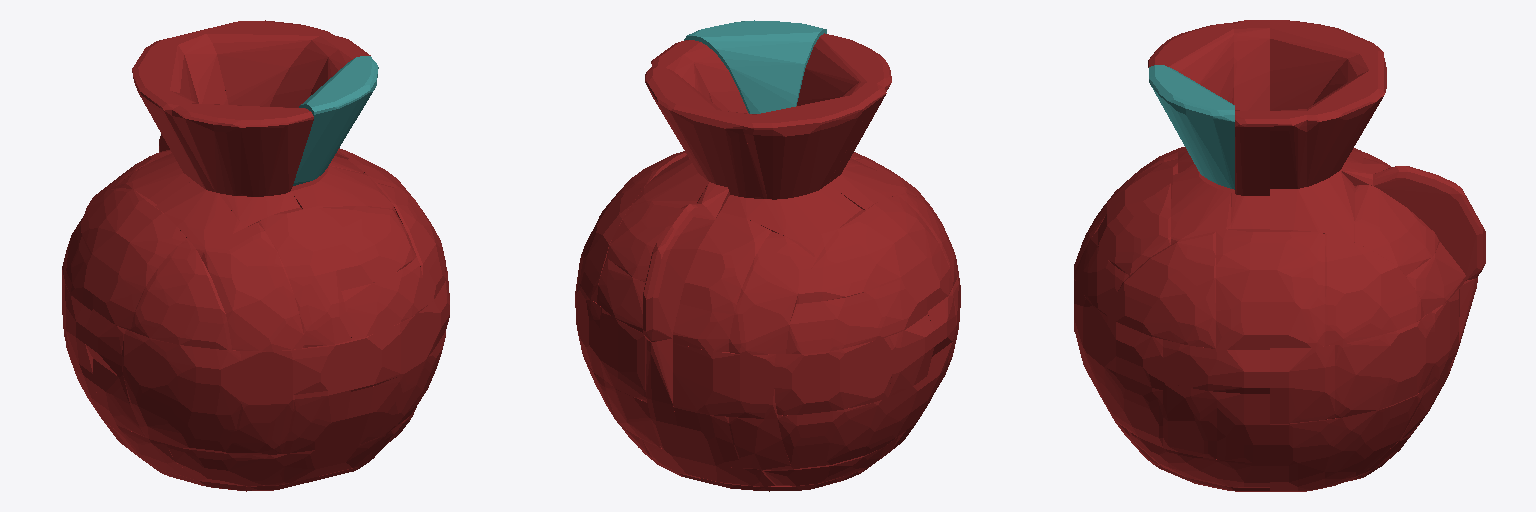
--- Render facts (derived) ---
The picture shows the robot from 3 angles, left to right: view 1: azimuth 30°, elevation 25°; view 2: azimuth 150°, elevation 25°; view 3: azimuth 270°, elevation 25°; orthographic projection.
Model root with 2 links and 1 joints (1 revolute), rooted at bottle_body, posed every joint at zero.
Links seen in each view (by area): view 1: bottle_body, bottle_cap; view 2: bottle_body, bottle_cap; view 3: bottle_body, bottle_cap.
Link boxes in pixels (x1,y1,x2,y2): bottle_body: (62,20,449,491); bottle_cap: (293,56,378,185); bottle_body: (575,33,960,491); bottle_cap: (684,20,826,113); bottle_body: (1074,20,1485,491); bottle_cap: (1149,65,1234,189).
Bounding box of the posed robot: 0.1578 × 0.1649 × 0.1669 m (x, y, z).
70 mesh visuals loaded from 70 distinct referenced files (70 OBJ).

robot.urdf — root:
<robot name="root">
  <link name="bottle_body">
    <inertial>
      <origin xyz="0 0 0" rpy="0 0 0"/>
    </inertial>
    <mass value="1.00E-02"/>
    <visual>
      <origin xyz="0 0 0" rpy="0 0 0"/>
      <geometry>
        <mesh filename="core-bottle-f1ae9b2eb551ba466dc523ea4bf73f1c-coacd_convex_piece_69.obj" scale="1.0000E-01 1.0000E-01 1.0000E-01"/>
      </geometry>
      <material name="">
        <color rgba="6.00E-01 2.00E-01 2.00E-01 1"/>
      </material>
    </visual>
    <collision>
      <origin xyz="0 0 0" rpy="0 0 0"/>
      <geometry>
        <mesh filename="core-bottle-f1ae9b2eb551ba466dc523ea4bf73f1c-coacd_convex_piece_69.obj" scale="1.0000E-01 1.0000E-01 1.0000E-01"/>
      </geometry>
    </collision>
    <visual>
      <origin xyz="0 0 0" rpy="0 0 0"/>
      <geometry>
        <mesh filename="core-bottle-f1ae9b2eb551ba466dc523ea4bf73f1c-coacd_convex_piece_27.obj" scale="1.0000E-01 1.0000E-01 1.0000E-01"/>
      </geometry>
      <material name="">
        <color rgba="6.00E-01 2.00E-01 2.00E-01 1"/>
      </material>
    </visual>
    <collision>
      <origin xyz="0 0 0" rpy="0 0 0"/>
      <geometry>
        <mesh filename="core-bottle-f1ae9b2eb551ba466dc523ea4bf73f1c-coacd_convex_piece_27.obj" scale="1.0000E-01 1.0000E-01 1.0000E-01"/>
      </geometry>
    </collision>
    <visual>
      <origin xyz="0 0 0" rpy="0 0 0"/>
      <geometry>
        <mesh filename="core-bottle-f1ae9b2eb551ba466dc523ea4bf73f1c-coacd_convex_piece_18.obj" scale="1.0000E-01 1.0000E-01 1.0000E-01"/>
      </geometry>
      <material name="">
        <color rgba="6.00E-01 2.00E-01 2.00E-01 1"/>
      </material>
    </visual>
    <collision>
      <origin xyz="0 0 0" rpy="0 0 0"/>
      <geometry>
        <mesh filename="core-bottle-f1ae9b2eb551ba466dc523ea4bf73f1c-coacd_convex_piece_18.obj" scale="1.0000E-01 1.0000E-01 1.0000E-01"/>
      </geometry>
    </collision>
    <visual>
      <origin xyz="0 0 0" rpy="0 0 0"/>
      <geometry>
        <mesh filename="core-bottle-f1ae9b2eb551ba466dc523ea4bf73f1c-coacd_convex_piece_6.obj" scale="1.0000E-01 1.0000E-01 1.0000E-01"/>
      </geometry>
      <material name="">
        <color rgba="6.00E-01 2.00E-01 2.00E-01 1"/>
      </material>
    </visual>
    <collision>
      <origin xyz="0 0 0" rpy="0 0 0"/>
      <geometry>
        <mesh filename="core-bottle-f1ae9b2eb551ba466dc523ea4bf73f1c-coacd_convex_piece_6.obj" scale="1.0000E-01 1.0000E-01 1.0000E-01"/>
      </geometry>
    </collision>
    <visual>
      <origin xyz="0 0 0" rpy="0 0 0"/>
      <geometry>
        <mesh filename="core-bottle-f1ae9b2eb551ba466dc523ea4bf73f1c-coacd_convex_piece_51.obj" scale="1.0000E-01 1.0000E-01 1.0000E-01"/>
      </geometry>
      <material name="">
        <color rgba="6.00E-01 2.00E-01 2.00E-01 1"/>
      </material>
    </visual>
    <collision>
      <origin xyz="0 0 0" rpy="0 0 0"/>
      <geometry>
        <mesh filename="core-bottle-f1ae9b2eb551ba466dc523ea4bf73f1c-coacd_convex_piece_51.obj" scale="1.0000E-01 1.0000E-01 1.0000E-01"/>
      </geometry>
    </collision>
    <visual>
      <origin xyz="0 0 0" rpy="0 0 0"/>
      <geometry>
        <mesh filename="core-bottle-f1ae9b2eb551ba466dc523ea4bf73f1c-coacd_convex_piece_54.obj" scale="1.0000E-01 1.0000E-01 1.0000E-01"/>
      </geometry>
      <material name="">
        <color rgba="6.00E-01 2.00E-01 2.00E-01 1"/>
      </material>
    </visual>
    <collision>
      <origin xyz="0 0 0" rpy="0 0 0"/>
      <geometry>
        <mesh filename="core-bottle-f1ae9b2eb551ba466dc523ea4bf73f1c-coacd_convex_piece_54.obj" scale="1.0000E-01 1.0000E-01 1.0000E-01"/>
      </geometry>
    </collision>
    <visual>
      <origin xyz="0 0 0" rpy="0 0 0"/>
      <geometry>
        <mesh filename="core-bottle-f1ae9b2eb551ba466dc523ea4bf73f1c-coacd_convex_piece_3.obj" scale="1.0000E-01 1.0000E-01 1.0000E-01"/>
      </geometry>
      <material name="">
        <color rgba="6.00E-01 2.00E-01 2.00E-01 1"/>
      </material>
    </visual>
    <collision>
      <origin xyz="0 0 0" rpy="0 0 0"/>
      <geometry>
        <mesh filename="core-bottle-f1ae9b2eb551ba466dc523ea4bf73f1c-coacd_convex_piece_3.obj" scale="1.0000E-01 1.0000E-01 1.0000E-01"/>
      </geometry>
    </collision>
    <visual>
      <origin xyz="0 0 0" rpy="0 0 0"/>
      <geometry>
        <mesh filename="core-bottle-f1ae9b2eb551ba466dc523ea4bf73f1c-coacd_convex_piece_9.obj" scale="1.0000E-01 1.0000E-01 1.0000E-01"/>
      </geometry>
      <material name="">
        <color rgba="6.00E-01 2.00E-01 2.00E-01 1"/>
      </material>
    </visual>
    <collision>
      <origin xyz="0 0 0" rpy="0 0 0"/>
      <geometry>
        <mesh filename="core-bottle-f1ae9b2eb551ba466dc523ea4bf73f1c-coacd_convex_piece_9.obj" scale="1.0000E-01 1.0000E-01 1.0000E-01"/>
      </geometry>
    </collision>
    <visual>
      <origin xyz="0 0 0" rpy="0 0 0"/>
      <geometry>
        <mesh filename="core-bottle-f1ae9b2eb551ba466dc523ea4bf73f1c-coacd_convex_piece_36.obj" scale="1.0000E-01 1.0000E-01 1.0000E-01"/>
      </geometry>
      <material name="">
        <color rgba="6.00E-01 2.00E-01 2.00E-01 1"/>
      </material>
    </visual>
    <collision>
      <origin xyz="0 0 0" rpy="0 0 0"/>
      <geometry>
        <mesh filename="core-bottle-f1ae9b2eb551ba466dc523ea4bf73f1c-coacd_convex_piece_36.obj" scale="1.0000E-01 1.0000E-01 1.0000E-01"/>
      </geometry>
    </collision>
    <visual>
      <origin xyz="0 0 0" rpy="0 0 0"/>
      <geometry>
        <mesh filename="core-bottle-f1ae9b2eb551ba466dc523ea4bf73f1c-coacd_convex_piece_31.obj" scale="1.0000E-01 1.0000E-01 1.0000E-01"/>
      </geometry>
      <material name="">
        <color rgba="6.00E-01 2.00E-01 2.00E-01 1"/>
      </material>
    </visual>
    <collision>
      <origin xyz="0 0 0" rpy="0 0 0"/>
      <geometry>
        <mesh filename="core-bottle-f1ae9b2eb551ba466dc523ea4bf73f1c-coacd_convex_piece_31.obj" scale="1.0000E-01 1.0000E-01 1.0000E-01"/>
      </geometry>
    </collision>
    <visual>
      <origin xyz="0 0 0" rpy="0 0 0"/>
      <geometry>
        <mesh filename="core-bottle-f1ae9b2eb551ba466dc523ea4bf73f1c-coacd_convex_piece_68.obj" scale="1.0000E-01 1.0000E-01 1.0000E-01"/>
      </geometry>
      <material name="">
        <color rgba="6.00E-01 2.00E-01 2.00E-01 1"/>
      </material>
    </visual>
    <collision>
      <origin xyz="0 0 0" rpy="0 0 0"/>
      <geometry>
        <mesh filename="core-bottle-f1ae9b2eb551ba466dc523ea4bf73f1c-coacd_convex_piece_68.obj" scale="1.0000E-01 1.0000E-01 1.0000E-01"/>
      </geometry>
    </collision>
    <visual>
      <origin xyz="0 0 0" rpy="0 0 0"/>
      <geometry>
        <mesh filename="core-bottle-f1ae9b2eb551ba466dc523ea4bf73f1c-coacd_convex_piece_48.obj" scale="1.0000E-01 1.0000E-01 1.0000E-01"/>
      </geometry>
      <material name="">
        <color rgba="6.00E-01 2.00E-01 2.00E-01 1"/>
      </material>
    </visual>
    <collision>
      <origin xyz="0 0 0" rpy="0 0 0"/>
      <geometry>
        <mesh filename="core-bottle-f1ae9b2eb551ba466dc523ea4bf73f1c-coacd_convex_piece_48.obj" scale="1.0000E-01 1.0000E-01 1.0000E-01"/>
      </geometry>
    </collision>
    <visual>
      <origin xyz="0 0 0" rpy="0 0 0"/>
      <geometry>
        <mesh filename="core-bottle-f1ae9b2eb551ba466dc523ea4bf73f1c-coacd_convex_piece_50.obj" scale="1.0000E-01 1.0000E-01 1.0000E-01"/>
      </geometry>
      <material name="">
        <color rgba="6.00E-01 2.00E-01 2.00E-01 1"/>
      </material>
    </visual>
    <collision>
      <origin xyz="0 0 0" rpy="0 0 0"/>
      <geometry>
        <mesh filename="core-bottle-f1ae9b2eb551ba466dc523ea4bf73f1c-coacd_convex_piece_50.obj" scale="1.0000E-01 1.0000E-01 1.0000E-01"/>
      </geometry>
    </collision>
    <visual>
      <origin xyz="0 0 0" rpy="0 0 0"/>
      <geometry>
        <mesh filename="core-bottle-f1ae9b2eb551ba466dc523ea4bf73f1c-coacd_convex_piece_23.obj" scale="1.0000E-01 1.0000E-01 1.0000E-01"/>
      </geometry>
      <material name="">
        <color rgba="6.00E-01 2.00E-01 2.00E-01 1"/>
      </material>
    </visual>
    <collision>
      <origin xyz="0 0 0" rpy="0 0 0"/>
      <geometry>
        <mesh filename="core-bottle-f1ae9b2eb551ba466dc523ea4bf73f1c-coacd_convex_piece_23.obj" scale="1.0000E-01 1.0000E-01 1.0000E-01"/>
      </geometry>
    </collision>
    <visual>
      <origin xyz="0 0 0" rpy="0 0 0"/>
      <geometry>
        <mesh filename="core-bottle-f1ae9b2eb551ba466dc523ea4bf73f1c-coacd_convex_piece_58.obj" scale="1.0000E-01 1.0000E-01 1.0000E-01"/>
      </geometry>
      <material name="">
        <color rgba="6.00E-01 2.00E-01 2.00E-01 1"/>
      </material>
    </visual>
    <collision>
      <origin xyz="0 0 0" rpy="0 0 0"/>
      <geometry>
        <mesh filename="core-bottle-f1ae9b2eb551ba466dc523ea4bf73f1c-coacd_convex_piece_58.obj" scale="1.0000E-01 1.0000E-01 1.0000E-01"/>
      </geometry>
    </collision>
    <visual>
      <origin xyz="0 0 0" rpy="0 0 0"/>
      <geometry>
        <mesh filename="core-bottle-f1ae9b2eb551ba466dc523ea4bf73f1c-coacd_convex_piece_10.obj" scale="1.0000E-01 1.0000E-01 1.0000E-01"/>
      </geometry>
      <material name="">
        <color rgba="6.00E-01 2.00E-01 2.00E-01 1"/>
      </material>
    </visual>
    <collision>
      <origin xyz="0 0 0" rpy="0 0 0"/>
      <geometry>
        <mesh filename="core-bottle-f1ae9b2eb551ba466dc523ea4bf73f1c-coacd_convex_piece_10.obj" scale="1.0000E-01 1.0000E-01 1.0000E-01"/>
      </geometry>
    </collision>
    <visual>
      <origin xyz="0 0 0" rpy="0 0 0"/>
      <geometry>
        <mesh filename="core-bottle-f1ae9b2eb551ba466dc523ea4bf73f1c-coacd_convex_piece_16.obj" scale="1.0000E-01 1.0000E-01 1.0000E-01"/>
      </geometry>
      <material name="">
        <color rgba="6.00E-01 2.00E-01 2.00E-01 1"/>
      </material>
    </visual>
    <collision>
      <origin xyz="0 0 0" rpy="0 0 0"/>
      <geometry>
        <mesh filename="core-bottle-f1ae9b2eb551ba466dc523ea4bf73f1c-coacd_convex_piece_16.obj" scale="1.0000E-01 1.0000E-01 1.0000E-01"/>
      </geometry>
    </collision>
    <visual>
      <origin xyz="0 0 0" rpy="0 0 0"/>
      <geometry>
        <mesh filename="core-bottle-f1ae9b2eb551ba466dc523ea4bf73f1c-coacd_convex_piece_17.obj" scale="1.0000E-01 1.0000E-01 1.0000E-01"/>
      </geometry>
      <material name="">
        <color rgba="6.00E-01 2.00E-01 2.00E-01 1"/>
      </material>
    </visual>
    <collision>
      <origin xyz="0 0 0" rpy="0 0 0"/>
      <geometry>
        <mesh filename="core-bottle-f1ae9b2eb551ba466dc523ea4bf73f1c-coacd_convex_piece_17.obj" scale="1.0000E-01 1.0000E-01 1.0000E-01"/>
      </geometry>
    </collision>
    <visual>
      <origin xyz="0 0 0" rpy="0 0 0"/>
      <geometry>
        <mesh filename="core-bottle-f1ae9b2eb551ba466dc523ea4bf73f1c-coacd_convex_piece_12.obj" scale="1.0000E-01 1.0000E-01 1.0000E-01"/>
      </geometry>
      <material name="">
        <color rgba="6.00E-01 2.00E-01 2.00E-01 1"/>
      </material>
    </visual>
    <collision>
      <origin xyz="0 0 0" rpy="0 0 0"/>
      <geometry>
        <mesh filename="core-bottle-f1ae9b2eb551ba466dc523ea4bf73f1c-coacd_convex_piece_12.obj" scale="1.0000E-01 1.0000E-01 1.0000E-01"/>
      </geometry>
    </collision>
    <visual>
      <origin xyz="0 0 0" rpy="0 0 0"/>
      <geometry>
        <mesh filename="core-bottle-f1ae9b2eb551ba466dc523ea4bf73f1c-coacd_convex_piece_24.obj" scale="1.0000E-01 1.0000E-01 1.0000E-01"/>
      </geometry>
      <material name="">
        <color rgba="6.00E-01 2.00E-01 2.00E-01 1"/>
      </material>
    </visual>
    <collision>
      <origin xyz="0 0 0" rpy="0 0 0"/>
      <geometry>
        <mesh filename="core-bottle-f1ae9b2eb551ba466dc523ea4bf73f1c-coacd_convex_piece_24.obj" scale="1.0000E-01 1.0000E-01 1.0000E-01"/>
      </geometry>
    </collision>
    <visual>
      <origin xyz="0 0 0" rpy="0 0 0"/>
      <geometry>
        <mesh filename="core-bottle-f1ae9b2eb551ba466dc523ea4bf73f1c-coacd_convex_piece_59.obj" scale="1.0000E-01 1.0000E-01 1.0000E-01"/>
      </geometry>
      <material name="">
        <color rgba="6.00E-01 2.00E-01 2.00E-01 1"/>
      </material>
    </visual>
    <collision>
      <origin xyz="0 0 0" rpy="0 0 0"/>
      <geometry>
        <mesh filename="core-bottle-f1ae9b2eb551ba466dc523ea4bf73f1c-coacd_convex_piece_59.obj" scale="1.0000E-01 1.0000E-01 1.0000E-01"/>
      </geometry>
    </collision>
    <visual>
      <origin xyz="0 0 0" rpy="0 0 0"/>
      <geometry>
        <mesh filename="core-bottle-f1ae9b2eb551ba466dc523ea4bf73f1c-coacd_convex_piece_64.obj" scale="1.0000E-01 1.0000E-01 1.0000E-01"/>
      </geometry>
      <material name="">
        <color rgba="6.00E-01 2.00E-01 2.00E-01 1"/>
      </material>
    </visual>
    <collision>
      <origin xyz="0 0 0" rpy="0 0 0"/>
      <geometry>
        <mesh filename="core-bottle-f1ae9b2eb551ba466dc523ea4bf73f1c-coacd_convex_piece_64.obj" scale="1.0000E-01 1.0000E-01 1.0000E-01"/>
      </geometry>
    </collision>
    <visual>
      <origin xyz="0 0 0" rpy="0 0 0"/>
      <geometry>
        <mesh filename="core-bottle-f1ae9b2eb551ba466dc523ea4bf73f1c-coacd_convex_piece_14.obj" scale="1.0000E-01 1.0000E-01 1.0000E-01"/>
      </geometry>
      <material name="">
        <color rgba="6.00E-01 2.00E-01 2.00E-01 1"/>
      </material>
    </visual>
    <collision>
      <origin xyz="0 0 0" rpy="0 0 0"/>
      <geometry>
        <mesh filename="core-bottle-f1ae9b2eb551ba466dc523ea4bf73f1c-coacd_convex_piece_14.obj" scale="1.0000E-01 1.0000E-01 1.0000E-01"/>
      </geometry>
    </collision>
    <visual>
      <origin xyz="0 0 0" rpy="0 0 0"/>
      <geometry>
        <mesh filename="core-bottle-f1ae9b2eb551ba466dc523ea4bf73f1c-coacd_convex_piece_34.obj" scale="1.0000E-01 1.0000E-01 1.0000E-01"/>
      </geometry>
      <material name="">
        <color rgba="6.00E-01 2.00E-01 2.00E-01 1"/>
      </material>
    </visual>
    <collision>
      <origin xyz="0 0 0" rpy="0 0 0"/>
      <geometry>
        <mesh filename="core-bottle-f1ae9b2eb551ba466dc523ea4bf73f1c-coacd_convex_piece_34.obj" scale="1.0000E-01 1.0000E-01 1.0000E-01"/>
      </geometry>
    </collision>
    <visual>
      <origin xyz="0 0 0" rpy="0 0 0"/>
      <geometry>
        <mesh filename="core-bottle-f1ae9b2eb551ba466dc523ea4bf73f1c-coacd_convex_piece_49.obj" scale="1.0000E-01 1.0000E-01 1.0000E-01"/>
      </geometry>
      <material name="">
        <color rgba="6.00E-01 2.00E-01 2.00E-01 1"/>
      </material>
    </visual>
    <collision>
      <origin xyz="0 0 0" rpy="0 0 0"/>
      <geometry>
        <mesh filename="core-bottle-f1ae9b2eb551ba466dc523ea4bf73f1c-coacd_convex_piece_49.obj" scale="1.0000E-01 1.0000E-01 1.0000E-01"/>
      </geometry>
    </collision>
    <visual>
      <origin xyz="0 0 0" rpy="0 0 0"/>
      <geometry>
        <mesh filename="core-bottle-f1ae9b2eb551ba466dc523ea4bf73f1c-coacd_convex_piece_32.obj" scale="1.0000E-01 1.0000E-01 1.0000E-01"/>
      </geometry>
      <material name="">
        <color rgba="6.00E-01 2.00E-01 2.00E-01 1"/>
      </material>
    </visual>
    <collision>
      <origin xyz="0 0 0" rpy="0 0 0"/>
      <geometry>
        <mesh filename="core-bottle-f1ae9b2eb551ba466dc523ea4bf73f1c-coacd_convex_piece_32.obj" scale="1.0000E-01 1.0000E-01 1.0000E-01"/>
      </geometry>
    </collision>
    <visual>
      <origin xyz="0 0 0" rpy="0 0 0"/>
      <geometry>
        <mesh filename="core-bottle-f1ae9b2eb551ba466dc523ea4bf73f1c-coacd_convex_piece_41.obj" scale="1.0000E-01 1.0000E-01 1.0000E-01"/>
      </geometry>
      <material name="">
        <color rgba="6.00E-01 2.00E-01 2.00E-01 1"/>
      </material>
    </visual>
    <collision>
      <origin xyz="0 0 0" rpy="0 0 0"/>
      <geometry>
        <mesh filename="core-bottle-f1ae9b2eb551ba466dc523ea4bf73f1c-coacd_convex_piece_41.obj" scale="1.0000E-01 1.0000E-01 1.0000E-01"/>
      </geometry>
    </collision>
    <visual>
      <origin xyz="0 0 0" rpy="0 0 0"/>
      <geometry>
        <mesh filename="core-bottle-f1ae9b2eb551ba466dc523ea4bf73f1c-coacd_convex_piece_55.obj" scale="1.0000E-01 1.0000E-01 1.0000E-01"/>
      </geometry>
      <material name="">
        <color rgba="6.00E-01 2.00E-01 2.00E-01 1"/>
      </material>
    </visual>
    <collision>
      <origin xyz="0 0 0" rpy="0 0 0"/>
      <geometry>
        <mesh filename="core-bottle-f1ae9b2eb551ba466dc523ea4bf73f1c-coacd_convex_piece_55.obj" scale="1.0000E-01 1.0000E-01 1.0000E-01"/>
      </geometry>
    </collision>
    <visual>
      <origin xyz="0 0 0" rpy="0 0 0"/>
      <geometry>
        <mesh filename="core-bottle-f1ae9b2eb551ba466dc523ea4bf73f1c-coacd_convex_piece_63.obj" scale="1.0000E-01 1.0000E-01 1.0000E-01"/>
      </geometry>
      <material name="">
        <color rgba="6.00E-01 2.00E-01 2.00E-01 1"/>
      </material>
    </visual>
    <collision>
      <origin xyz="0 0 0" rpy="0 0 0"/>
      <geometry>
        <mesh filename="core-bottle-f1ae9b2eb551ba466dc523ea4bf73f1c-coacd_convex_piece_63.obj" scale="1.0000E-01 1.0000E-01 1.0000E-01"/>
      </geometry>
    </collision>
    <visual>
      <origin xyz="0 0 0" rpy="0 0 0"/>
      <geometry>
        <mesh filename="core-bottle-f1ae9b2eb551ba466dc523ea4bf73f1c-coacd_convex_piece_15.obj" scale="1.0000E-01 1.0000E-01 1.0000E-01"/>
      </geometry>
      <material name="">
        <color rgba="6.00E-01 2.00E-01 2.00E-01 1"/>
      </material>
    </visual>
    <collision>
      <origin xyz="0 0 0" rpy="0 0 0"/>
      <geometry>
        <mesh filename="core-bottle-f1ae9b2eb551ba466dc523ea4bf73f1c-coacd_convex_piece_15.obj" scale="1.0000E-01 1.0000E-01 1.0000E-01"/>
      </geometry>
    </collision>
    <visual>
      <origin xyz="0 0 0" rpy="0 0 0"/>
      <geometry>
        <mesh filename="core-bottle-f1ae9b2eb551ba466dc523ea4bf73f1c-coacd_convex_piece_28.obj" scale="1.0000E-01 1.0000E-01 1.0000E-01"/>
      </geometry>
      <material name="">
        <color rgba="6.00E-01 2.00E-01 2.00E-01 1"/>
      </material>
    </visual>
    <collision>
      <origin xyz="0 0 0" rpy="0 0 0"/>
      <geometry>
        <mesh filename="core-bottle-f1ae9b2eb551ba466dc523ea4bf73f1c-coacd_convex_piece_28.obj" scale="1.0000E-01 1.0000E-01 1.0000E-01"/>
      </geometry>
    </collision>
    <visual>
      <origin xyz="0 0 0" rpy="0 0 0"/>
      <geometry>
        <mesh filename="core-bottle-f1ae9b2eb551ba466dc523ea4bf73f1c-coacd_convex_piece_56.obj" scale="1.0000E-01 1.0000E-01 1.0000E-01"/>
      </geometry>
      <material name="">
        <color rgba="6.00E-01 2.00E-01 2.00E-01 1"/>
      </material>
    </visual>
    <collision>
      <origin xyz="0 0 0" rpy="0 0 0"/>
      <geometry>
        <mesh filename="core-bottle-f1ae9b2eb551ba466dc523ea4bf73f1c-coacd_convex_piece_56.obj" scale="1.0000E-01 1.0000E-01 1.0000E-01"/>
      </geometry>
    </collision>
    <visual>
      <origin xyz="0 0 0" rpy="0 0 0"/>
      <geometry>
        <mesh filename="core-bottle-f1ae9b2eb551ba466dc523ea4bf73f1c-coacd_convex_piece_7.obj" scale="1.0000E-01 1.0000E-01 1.0000E-01"/>
      </geometry>
      <material name="">
        <color rgba="6.00E-01 2.00E-01 2.00E-01 1"/>
      </material>
    </visual>
    <collision>
      <origin xyz="0 0 0" rpy="0 0 0"/>
      <geometry>
        <mesh filename="core-bottle-f1ae9b2eb551ba466dc523ea4bf73f1c-coacd_convex_piece_7.obj" scale="1.0000E-01 1.0000E-01 1.0000E-01"/>
      </geometry>
    </collision>
    <visual>
      <origin xyz="0 0 0" rpy="0 0 0"/>
      <geometry>
        <mesh filename="core-bottle-f1ae9b2eb551ba466dc523ea4bf73f1c-coacd_convex_piece_61.obj" scale="1.0000E-01 1.0000E-01 1.0000E-01"/>
      </geometry>
      <material name="">
        <color rgba="6.00E-01 2.00E-01 2.00E-01 1"/>
      </material>
    </visual>
    <collision>
      <origin xyz="0 0 0" rpy="0 0 0"/>
      <geometry>
        <mesh filename="core-bottle-f1ae9b2eb551ba466dc523ea4bf73f1c-coacd_convex_piece_61.obj" scale="1.0000E-01 1.0000E-01 1.0000E-01"/>
      </geometry>
    </collision>
    <visual>
      <origin xyz="0 0 0" rpy="0 0 0"/>
      <geometry>
        <mesh filename="core-bottle-f1ae9b2eb551ba466dc523ea4bf73f1c-coacd_convex_piece_67.obj" scale="1.0000E-01 1.0000E-01 1.0000E-01"/>
      </geometry>
      <material name="">
        <color rgba="6.00E-01 2.00E-01 2.00E-01 1"/>
      </material>
    </visual>
    <collision>
      <origin xyz="0 0 0" rpy="0 0 0"/>
      <geometry>
        <mesh filename="core-bottle-f1ae9b2eb551ba466dc523ea4bf73f1c-coacd_convex_piece_67.obj" scale="1.0000E-01 1.0000E-01 1.0000E-01"/>
      </geometry>
    </collision>
    <visual>
      <origin xyz="0 0 0" rpy="0 0 0"/>
      <geometry>
        <mesh filename="core-bottle-f1ae9b2eb551ba466dc523ea4bf73f1c-coacd_convex_piece_37.obj" scale="1.0000E-01 1.0000E-01 1.0000E-01"/>
      </geometry>
      <material name="">
        <color rgba="6.00E-01 2.00E-01 2.00E-01 1"/>
      </material>
    </visual>
    <collision>
      <origin xyz="0 0 0" rpy="0 0 0"/>
      <geometry>
        <mesh filename="core-bottle-f1ae9b2eb551ba466dc523ea4bf73f1c-coacd_convex_piece_37.obj" scale="1.0000E-01 1.0000E-01 1.0000E-01"/>
      </geometry>
    </collision>
    <visual>
      <origin xyz="0 0 0" rpy="0 0 0"/>
      <geometry>
        <mesh filename="core-bottle-f1ae9b2eb551ba466dc523ea4bf73f1c-coacd_convex_piece_52.obj" scale="1.0000E-01 1.0000E-01 1.0000E-01"/>
      </geometry>
      <material name="">
        <color rgba="6.00E-01 2.00E-01 2.00E-01 1"/>
      </material>
    </visual>
    <collision>
      <origin xyz="0 0 0" rpy="0 0 0"/>
      <geometry>
        <mesh filename="core-bottle-f1ae9b2eb551ba466dc523ea4bf73f1c-coacd_convex_piece_52.obj" scale="1.0000E-01 1.0000E-01 1.0000E-01"/>
      </geometry>
    </collision>
    <visual>
      <origin xyz="0 0 0" rpy="0 0 0"/>
      <geometry>
        <mesh filename="core-bottle-f1ae9b2eb551ba466dc523ea4bf73f1c-coacd_convex_piece_26.obj" scale="1.0000E-01 1.0000E-01 1.0000E-01"/>
      </geometry>
      <material name="">
        <color rgba="6.00E-01 2.00E-01 2.00E-01 1"/>
      </material>
    </visual>
    <collision>
      <origin xyz="0 0 0" rpy="0 0 0"/>
      <geometry>
        <mesh filename="core-bottle-f1ae9b2eb551ba466dc523ea4bf73f1c-coacd_convex_piece_26.obj" scale="1.0000E-01 1.0000E-01 1.0000E-01"/>
      </geometry>
    </collision>
    <visual>
      <origin xyz="0 0 0" rpy="0 0 0"/>
      <geometry>
        <mesh filename="core-bottle-f1ae9b2eb551ba466dc523ea4bf73f1c-coacd_convex_piece_42.obj" scale="1.0000E-01 1.0000E-01 1.0000E-01"/>
      </geometry>
      <material name="">
        <color rgba="6.00E-01 2.00E-01 2.00E-01 1"/>
      </material>
    </visual>
    <collision>
      <origin xyz="0 0 0" rpy="0 0 0"/>
      <geometry>
        <mesh filename="core-bottle-f1ae9b2eb551ba466dc523ea4bf73f1c-coacd_convex_piece_42.obj" scale="1.0000E-01 1.0000E-01 1.0000E-01"/>
      </geometry>
    </collision>
    <visual>
      <origin xyz="0 0 0" rpy="0 0 0"/>
      <geometry>
        <mesh filename="core-bottle-f1ae9b2eb551ba466dc523ea4bf73f1c-coacd_convex_piece_2.obj" scale="1.0000E-01 1.0000E-01 1.0000E-01"/>
      </geometry>
      <material name="">
        <color rgba="6.00E-01 2.00E-01 2.00E-01 1"/>
      </material>
    </visual>
    <collision>
      <origin xyz="0 0 0" rpy="0 0 0"/>
      <geometry>
        <mesh filename="core-bottle-f1ae9b2eb551ba466dc523ea4bf73f1c-coacd_convex_piece_2.obj" scale="1.0000E-01 1.0000E-01 1.0000E-01"/>
      </geometry>
    </collision>
    <visual>
      <origin xyz="0 0 0" rpy="0 0 0"/>
      <geometry>
        <mesh filename="core-bottle-f1ae9b2eb551ba466dc523ea4bf73f1c-coacd_convex_piece_35.obj" scale="1.0000E-01 1.0000E-01 1.0000E-01"/>
      </geometry>
      <material name="">
        <color rgba="6.00E-01 2.00E-01 2.00E-01 1"/>
      </material>
    </visual>
    <collision>
      <origin xyz="0 0 0" rpy="0 0 0"/>
      <geometry>
        <mesh filename="core-bottle-f1ae9b2eb551ba466dc523ea4bf73f1c-coacd_convex_piece_35.obj" scale="1.0000E-01 1.0000E-01 1.0000E-01"/>
      </geometry>
    </collision>
    <visual>
      <origin xyz="0 0 0" rpy="0 0 0"/>
      <geometry>
        <mesh filename="core-bottle-f1ae9b2eb551ba466dc523ea4bf73f1c-coacd_convex_piece_4.obj" scale="1.0000E-01 1.0000E-01 1.0000E-01"/>
      </geometry>
      <material name="">
        <color rgba="6.00E-01 2.00E-01 2.00E-01 1"/>
      </material>
    </visual>
    <collision>
      <origin xyz="0 0 0" rpy="0 0 0"/>
      <geometry>
        <mesh filename="core-bottle-f1ae9b2eb551ba466dc523ea4bf73f1c-coacd_convex_piece_4.obj" scale="1.0000E-01 1.0000E-01 1.0000E-01"/>
      </geometry>
    </collision>
    <visual>
      <origin xyz="0 0 0" rpy="0 0 0"/>
      <geometry>
        <mesh filename="core-bottle-f1ae9b2eb551ba466dc523ea4bf73f1c-coacd_convex_piece_62.obj" scale="1.0000E-01 1.0000E-01 1.0000E-01"/>
      </geometry>
      <material name="">
        <color rgba="6.00E-01 2.00E-01 2.00E-01 1"/>
      </material>
    </visual>
    <collision>
      <origin xyz="0 0 0" rpy="0 0 0"/>
      <geometry>
        <mesh filename="core-bottle-f1ae9b2eb551ba466dc523ea4bf73f1c-coacd_convex_piece_62.obj" scale="1.0000E-01 1.0000E-01 1.0000E-01"/>
      </geometry>
    </collision>
    <visual>
      <origin xyz="0 0 0" rpy="0 0 0"/>
      <geometry>
        <mesh filename="core-bottle-f1ae9b2eb551ba466dc523ea4bf73f1c-coacd_convex_piece_8.obj" scale="1.0000E-01 1.0000E-01 1.0000E-01"/>
      </geometry>
      <material name="">
        <color rgba="6.00E-01 2.00E-01 2.00E-01 1"/>
      </material>
    </visual>
    <collision>
      <origin xyz="0 0 0" rpy="0 0 0"/>
      <geometry>
        <mesh filename="core-bottle-f1ae9b2eb551ba466dc523ea4bf73f1c-coacd_convex_piece_8.obj" scale="1.0000E-01 1.0000E-01 1.0000E-01"/>
      </geometry>
    </collision>
    <visual>
      <origin xyz="0 0 0" rpy="0 0 0"/>
      <geometry>
        <mesh filename="core-bottle-f1ae9b2eb551ba466dc523ea4bf73f1c-coacd_convex_piece_11.obj" scale="1.0000E-01 1.0000E-01 1.0000E-01"/>
      </geometry>
      <material name="">
        <color rgba="6.00E-01 2.00E-01 2.00E-01 1"/>
      </material>
    </visual>
    <collision>
      <origin xyz="0 0 0" rpy="0 0 0"/>
      <geometry>
        <mesh filename="core-bottle-f1ae9b2eb551ba466dc523ea4bf73f1c-coacd_convex_piece_11.obj" scale="1.0000E-01 1.0000E-01 1.0000E-01"/>
      </geometry>
    </collision>
    <visual>
      <origin xyz="0 0 0" rpy="0 0 0"/>
      <geometry>
        <mesh filename="core-bottle-f1ae9b2eb551ba466dc523ea4bf73f1c-coacd_convex_piece_66.obj" scale="1.0000E-01 1.0000E-01 1.0000E-01"/>
      </geometry>
      <material name="">
        <color rgba="6.00E-01 2.00E-01 2.00E-01 1"/>
      </material>
    </visual>
    <collision>
      <origin xyz="0 0 0" rpy="0 0 0"/>
      <geometry>
        <mesh filename="core-bottle-f1ae9b2eb551ba466dc523ea4bf73f1c-coacd_convex_piece_66.obj" scale="1.0000E-01 1.0000E-01 1.0000E-01"/>
      </geometry>
    </collision>
    <visual>
      <origin xyz="0 0 0" rpy="0 0 0"/>
      <geometry>
        <mesh filename="core-bottle-f1ae9b2eb551ba466dc523ea4bf73f1c-coacd_convex_piece_1.obj" scale="1.0000E-01 1.0000E-01 1.0000E-01"/>
      </geometry>
      <material name="">
        <color rgba="6.00E-01 2.00E-01 2.00E-01 1"/>
      </material>
    </visual>
    <collision>
      <origin xyz="0 0 0" rpy="0 0 0"/>
      <geometry>
        <mesh filename="core-bottle-f1ae9b2eb551ba466dc523ea4bf73f1c-coacd_convex_piece_1.obj" scale="1.0000E-01 1.0000E-01 1.0000E-01"/>
      </geometry>
    </collision>
    <visual>
      <origin xyz="0 0 0" rpy="0 0 0"/>
      <geometry>
        <mesh filename="core-bottle-f1ae9b2eb551ba466dc523ea4bf73f1c-coacd_convex_piece_57.obj" scale="1.0000E-01 1.0000E-01 1.0000E-01"/>
      </geometry>
      <material name="">
        <color rgba="6.00E-01 2.00E-01 2.00E-01 1"/>
      </material>
    </visual>
    <collision>
      <origin xyz="0 0 0" rpy="0 0 0"/>
      <geometry>
        <mesh filename="core-bottle-f1ae9b2eb551ba466dc523ea4bf73f1c-coacd_convex_piece_57.obj" scale="1.0000E-01 1.0000E-01 1.0000E-01"/>
      </geometry>
    </collision>
    <visual>
      <origin xyz="0 0 0" rpy="0 0 0"/>
      <geometry>
        <mesh filename="core-bottle-f1ae9b2eb551ba466dc523ea4bf73f1c-coacd_convex_piece_33.obj" scale="1.0000E-01 1.0000E-01 1.0000E-01"/>
      </geometry>
      <material name="">
        <color rgba="6.00E-01 2.00E-01 2.00E-01 1"/>
      </material>
    </visual>
    <collision>
      <origin xyz="0 0 0" rpy="0 0 0"/>
      <geometry>
        <mesh filename="core-bottle-f1ae9b2eb551ba466dc523ea4bf73f1c-coacd_convex_piece_33.obj" scale="1.0000E-01 1.0000E-01 1.0000E-01"/>
      </geometry>
    </collision>
    <visual>
      <origin xyz="0 0 0" rpy="0 0 0"/>
      <geometry>
        <mesh filename="core-bottle-f1ae9b2eb551ba466dc523ea4bf73f1c-coacd_convex_piece_40.obj" scale="1.0000E-01 1.0000E-01 1.0000E-01"/>
      </geometry>
      <material name="">
        <color rgba="6.00E-01 2.00E-01 2.00E-01 1"/>
      </material>
    </visual>
    <collision>
      <origin xyz="0 0 0" rpy="0 0 0"/>
      <geometry>
        <mesh filename="core-bottle-f1ae9b2eb551ba466dc523ea4bf73f1c-coacd_convex_piece_40.obj" scale="1.0000E-01 1.0000E-01 1.0000E-01"/>
      </geometry>
    </collision>
    <visual>
      <origin xyz="0 0 0" rpy="0 0 0"/>
      <geometry>
        <mesh filename="core-bottle-f1ae9b2eb551ba466dc523ea4bf73f1c-coacd_convex_piece_22.obj" scale="1.0000E-01 1.0000E-01 1.0000E-01"/>
      </geometry>
      <material name="">
        <color rgba="6.00E-01 2.00E-01 2.00E-01 1"/>
      </material>
    </visual>
    <collision>
      <origin xyz="0 0 0" rpy="0 0 0"/>
      <geometry>
        <mesh filename="core-bottle-f1ae9b2eb551ba466dc523ea4bf73f1c-coacd_convex_piece_22.obj" scale="1.0000E-01 1.0000E-01 1.0000E-01"/>
      </geometry>
    </collision>
    <visual>
      <origin xyz="0 0 0" rpy="0 0 0"/>
      <geometry>
        <mesh filename="core-bottle-f1ae9b2eb551ba466dc523ea4bf73f1c-coacd_convex_piece_5.obj" scale="1.0000E-01 1.0000E-01 1.0000E-01"/>
      </geometry>
      <material name="">
        <color rgba="6.00E-01 2.00E-01 2.00E-01 1"/>
      </material>
    </visual>
    <collision>
      <origin xyz="0 0 0" rpy="0 0 0"/>
      <geometry>
        <mesh filename="core-bottle-f1ae9b2eb551ba466dc523ea4bf73f1c-coacd_convex_piece_5.obj" scale="1.0000E-01 1.0000E-01 1.0000E-01"/>
      </geometry>
    </collision>
    <visual>
      <origin xyz="0 0 0" rpy="0 0 0"/>
      <geometry>
        <mesh filename="core-bottle-f1ae9b2eb551ba466dc523ea4bf73f1c-coacd_convex_piece_45.obj" scale="1.0000E-01 1.0000E-01 1.0000E-01"/>
      </geometry>
      <material name="">
        <color rgba="6.00E-01 2.00E-01 2.00E-01 1"/>
      </material>
    </visual>
    <collision>
      <origin xyz="0 0 0" rpy="0 0 0"/>
      <geometry>
        <mesh filename="core-bottle-f1ae9b2eb551ba466dc523ea4bf73f1c-coacd_convex_piece_45.obj" scale="1.0000E-01 1.0000E-01 1.0000E-01"/>
      </geometry>
    </collision>
    <visual>
      <origin xyz="0 0 0" rpy="0 0 0"/>
      <geometry>
        <mesh filename="core-bottle-f1ae9b2eb551ba466dc523ea4bf73f1c-coacd_convex_piece_13.obj" scale="1.0000E-01 1.0000E-01 1.0000E-01"/>
      </geometry>
      <material name="">
        <color rgba="6.00E-01 2.00E-01 2.00E-01 1"/>
      </material>
    </visual>
    <collision>
      <origin xyz="0 0 0" rpy="0 0 0"/>
      <geometry>
        <mesh filename="core-bottle-f1ae9b2eb551ba466dc523ea4bf73f1c-coacd_convex_piece_13.obj" scale="1.0000E-01 1.0000E-01 1.0000E-01"/>
      </geometry>
    </collision>
    <visual>
      <origin xyz="0 0 0" rpy="0 0 0"/>
      <geometry>
        <mesh filename="core-bottle-f1ae9b2eb551ba466dc523ea4bf73f1c-coacd_convex_piece_47.obj" scale="1.0000E-01 1.0000E-01 1.0000E-01"/>
      </geometry>
      <material name="">
        <color rgba="6.00E-01 2.00E-01 2.00E-01 1"/>
      </material>
    </visual>
    <collision>
      <origin xyz="0 0 0" rpy="0 0 0"/>
      <geometry>
        <mesh filename="core-bottle-f1ae9b2eb551ba466dc523ea4bf73f1c-coacd_convex_piece_47.obj" scale="1.0000E-01 1.0000E-01 1.0000E-01"/>
      </geometry>
    </collision>
    <visual>
      <origin xyz="0 0 0" rpy="0 0 0"/>
      <geometry>
        <mesh filename="core-bottle-f1ae9b2eb551ba466dc523ea4bf73f1c-coacd_convex_piece_53.obj" scale="1.0000E-01 1.0000E-01 1.0000E-01"/>
      </geometry>
      <material name="">
        <color rgba="6.00E-01 2.00E-01 2.00E-01 1"/>
      </material>
    </visual>
    <collision>
      <origin xyz="0 0 0" rpy="0 0 0"/>
      <geometry>
        <mesh filename="core-bottle-f1ae9b2eb551ba466dc523ea4bf73f1c-coacd_convex_piece_53.obj" scale="1.0000E-01 1.0000E-01 1.0000E-01"/>
      </geometry>
    </collision>
    <visual>
      <origin xyz="0 0 0" rpy="0 0 0"/>
      <geometry>
        <mesh filename="core-bottle-f1ae9b2eb551ba466dc523ea4bf73f1c-coacd_convex_piece_43.obj" scale="1.0000E-01 1.0000E-01 1.0000E-01"/>
      </geometry>
      <material name="">
        <color rgba="6.00E-01 2.00E-01 2.00E-01 1"/>
      </material>
    </visual>
    <collision>
      <origin xyz="0 0 0" rpy="0 0 0"/>
      <geometry>
        <mesh filename="core-bottle-f1ae9b2eb551ba466dc523ea4bf73f1c-coacd_convex_piece_43.obj" scale="1.0000E-01 1.0000E-01 1.0000E-01"/>
      </geometry>
    </collision>
    <visual>
      <origin xyz="0 0 0" rpy="0 0 0"/>
      <geometry>
        <mesh filename="core-bottle-f1ae9b2eb551ba466dc523ea4bf73f1c-coacd_convex_piece_44.obj" scale="1.0000E-01 1.0000E-01 1.0000E-01"/>
      </geometry>
      <material name="">
        <color rgba="6.00E-01 2.00E-01 2.00E-01 1"/>
      </material>
    </visual>
    <collision>
      <origin xyz="0 0 0" rpy="0 0 0"/>
      <geometry>
        <mesh filename="core-bottle-f1ae9b2eb551ba466dc523ea4bf73f1c-coacd_convex_piece_44.obj" scale="1.0000E-01 1.0000E-01 1.0000E-01"/>
      </geometry>
    </collision>
    <visual>
      <origin xyz="0 0 0" rpy="0 0 0"/>
      <geometry>
        <mesh filename="core-bottle-f1ae9b2eb551ba466dc523ea4bf73f1c-coacd_convex_piece_29.obj" scale="1.0000E-01 1.0000E-01 1.0000E-01"/>
      </geometry>
      <material name="">
        <color rgba="6.00E-01 2.00E-01 2.00E-01 1"/>
      </material>
    </visual>
    <collision>
      <origin xyz="0 0 0" rpy="0 0 0"/>
      <geometry>
        <mesh filename="core-bottle-f1ae9b2eb551ba466dc523ea4bf73f1c-coacd_convex_piece_29.obj" scale="1.0000E-01 1.0000E-01 1.0000E-01"/>
      </geometry>
    </collision>
    <visual>
      <origin xyz="0 0 0" rpy="0 0 0"/>
      <geometry>
        <mesh filename="core-bottle-f1ae9b2eb551ba466dc523ea4bf73f1c-coacd_convex_piece_25.obj" scale="1.0000E-01 1.0000E-01 1.0000E-01"/>
      </geometry>
      <material name="">
        <color rgba="6.00E-01 2.00E-01 2.00E-01 1"/>
      </material>
    </visual>
    <collision>
      <origin xyz="0 0 0" rpy="0 0 0"/>
      <geometry>
        <mesh filename="core-bottle-f1ae9b2eb551ba466dc523ea4bf73f1c-coacd_convex_piece_25.obj" scale="1.0000E-01 1.0000E-01 1.0000E-01"/>
      </geometry>
    </collision>
    <visual>
      <origin xyz="0 0 0" rpy="0 0 0"/>
      <geometry>
        <mesh filename="core-bottle-f1ae9b2eb551ba466dc523ea4bf73f1c-coacd_convex_piece_39.obj" scale="1.0000E-01 1.0000E-01 1.0000E-01"/>
      </geometry>
      <material name="">
        <color rgba="6.00E-01 2.00E-01 2.00E-01 1"/>
      </material>
    </visual>
    <collision>
      <origin xyz="0 0 0" rpy="0 0 0"/>
      <geometry>
        <mesh filename="core-bottle-f1ae9b2eb551ba466dc523ea4bf73f1c-coacd_convex_piece_39.obj" scale="1.0000E-01 1.0000E-01 1.0000E-01"/>
      </geometry>
    </collision>
    <visual>
      <origin xyz="0 0 0" rpy="0 0 0"/>
      <geometry>
        <mesh filename="core-bottle-f1ae9b2eb551ba466dc523ea4bf73f1c-coacd_convex_piece_46.obj" scale="1.0000E-01 1.0000E-01 1.0000E-01"/>
      </geometry>
      <material name="">
        <color rgba="6.00E-01 2.00E-01 2.00E-01 1"/>
      </material>
    </visual>
    <collision>
      <origin xyz="0 0 0" rpy="0 0 0"/>
      <geometry>
        <mesh filename="core-bottle-f1ae9b2eb551ba466dc523ea4bf73f1c-coacd_convex_piece_46.obj" scale="1.0000E-01 1.0000E-01 1.0000E-01"/>
      </geometry>
    </collision>
    <visual>
      <origin xyz="0 0 0" rpy="0 0 0"/>
      <geometry>
        <mesh filename="core-bottle-f1ae9b2eb551ba466dc523ea4bf73f1c-coacd_convex_piece_21.obj" scale="1.0000E-01 1.0000E-01 1.0000E-01"/>
      </geometry>
      <material name="">
        <color rgba="6.00E-01 2.00E-01 2.00E-01 1"/>
      </material>
    </visual>
    <collision>
      <origin xyz="0 0 0" rpy="0 0 0"/>
      <geometry>
        <mesh filename="core-bottle-f1ae9b2eb551ba466dc523ea4bf73f1c-coacd_convex_piece_21.obj" scale="1.0000E-01 1.0000E-01 1.0000E-01"/>
      </geometry>
    </collision>
    <visual>
      <origin xyz="0 0 0" rpy="0 0 0"/>
      <geometry>
        <mesh filename="core-bottle-f1ae9b2eb551ba466dc523ea4bf73f1c-coacd_convex_piece_65.obj" scale="1.0000E-01 1.0000E-01 1.0000E-01"/>
      </geometry>
      <material name="">
        <color rgba="6.00E-01 2.00E-01 2.00E-01 1"/>
      </material>
    </visual>
    <collision>
      <origin xyz="0 0 0" rpy="0 0 0"/>
      <geometry>
        <mesh filename="core-bottle-f1ae9b2eb551ba466dc523ea4bf73f1c-coacd_convex_piece_65.obj" scale="1.0000E-01 1.0000E-01 1.0000E-01"/>
      </geometry>
    </collision>
    <visual>
      <origin xyz="0 0 0" rpy="0 0 0"/>
      <geometry>
        <mesh filename="core-bottle-f1ae9b2eb551ba466dc523ea4bf73f1c-coacd_convex_piece_38.obj" scale="1.0000E-01 1.0000E-01 1.0000E-01"/>
      </geometry>
      <material name="">
        <color rgba="6.00E-01 2.00E-01 2.00E-01 1"/>
      </material>
    </visual>
    <collision>
      <origin xyz="0 0 0" rpy="0 0 0"/>
      <geometry>
        <mesh filename="core-bottle-f1ae9b2eb551ba466dc523ea4bf73f1c-coacd_convex_piece_38.obj" scale="1.0000E-01 1.0000E-01 1.0000E-01"/>
      </geometry>
    </collision>
    <visual>
      <origin xyz="0 0 0" rpy="0 0 0"/>
      <geometry>
        <mesh filename="core-bottle-f1ae9b2eb551ba466dc523ea4bf73f1c-coacd_convex_piece_19.obj" scale="1.0000E-01 1.0000E-01 1.0000E-01"/>
      </geometry>
      <material name="">
        <color rgba="6.00E-01 2.00E-01 2.00E-01 1"/>
      </material>
    </visual>
    <collision>
      <origin xyz="0 0 0" rpy="0 0 0"/>
      <geometry>
        <mesh filename="core-bottle-f1ae9b2eb551ba466dc523ea4bf73f1c-coacd_convex_piece_19.obj" scale="1.0000E-01 1.0000E-01 1.0000E-01"/>
      </geometry>
    </collision>
    <visual>
      <origin xyz="0 0 0" rpy="0 0 0"/>
      <geometry>
        <mesh filename="core-bottle-f1ae9b2eb551ba466dc523ea4bf73f1c-coacd_convex_piece_60.obj" scale="1.0000E-01 1.0000E-01 1.0000E-01"/>
      </geometry>
      <material name="">
        <color rgba="6.00E-01 2.00E-01 2.00E-01 1"/>
      </material>
    </visual>
    <collision>
      <origin xyz="0 0 0" rpy="0 0 0"/>
      <geometry>
        <mesh filename="core-bottle-f1ae9b2eb551ba466dc523ea4bf73f1c-coacd_convex_piece_60.obj" scale="1.0000E-01 1.0000E-01 1.0000E-01"/>
      </geometry>
    </collision>
    <visual>
      <origin xyz="0 0 0" rpy="0 0 0"/>
      <geometry>
        <mesh filename="core-bottle-f1ae9b2eb551ba466dc523ea4bf73f1c-coacd_convex_piece_30.obj" scale="1.0000E-01 1.0000E-01 1.0000E-01"/>
      </geometry>
      <material name="">
        <color rgba="6.00E-01 2.00E-01 2.00E-01 1"/>
      </material>
    </visual>
    <collision>
      <origin xyz="0 0 0" rpy="0 0 0"/>
      <geometry>
        <mesh filename="core-bottle-f1ae9b2eb551ba466dc523ea4bf73f1c-coacd_convex_piece_30.obj" scale="1.0000E-01 1.0000E-01 1.0000E-01"/>
      </geometry>
    </collision>
    <visual>
      <origin xyz="0 0 0" rpy="0 0 0"/>
      <geometry>
        <mesh filename="core-bottle-f1ae9b2eb551ba466dc523ea4bf73f1c-coacd_convex_piece_20.obj" scale="1.0000E-01 1.0000E-01 1.0000E-01"/>
      </geometry>
      <material name="">
        <color rgba="6.00E-01 2.00E-01 2.00E-01 1"/>
      </material>
    </visual>
    <collision>
      <origin xyz="0 0 0" rpy="0 0 0"/>
      <geometry>
        <mesh filename="core-bottle-f1ae9b2eb551ba466dc523ea4bf73f1c-coacd_convex_piece_20.obj" scale="1.0000E-01 1.0000E-01 1.0000E-01"/>
      </geometry>
    </collision>
  </link>
  <link name="bottle_cap">
    <origin xyz="0 0 0.002" rpy="0 0 0"/>
    <mass value="1.00E-02"/>
    <visual>
      <origin xyz="0 0 0.002" rpy="0 0 0"/>
      <geometry>
        <mesh filename="core-bottle-f1ae9b2eb551ba466dc523ea4bf73f1c-coacd_convex_piece_0.obj" scale="1.0000E-01 1.0000E-01 1.0000E-01"/>
      </geometry>
      <material name="">
        <color rgba="3.00E-01 6.00E-01 6.00E-01 1"/>
      </material>
    </visual>
    <collision>
      <origin xyz="0 0 0.002" rpy="0 0 0"/>
      <geometry>
        <mesh filename="core-bottle-f1ae9b2eb551ba466dc523ea4bf73f1c-coacd_convex_piece_0.obj" scale="1.0000E-01 1.0000E-01 1.0000E-01"/>
      </geometry>
    </collision>
  </link>
  <joint name="bottle_cap_joint" type="revolute">
    <origin xyz="0 0 0" rpy="0 0 0"/>
    <parent link="bottle_body"/>
    <child link="bottle_cap"/>
    <axis xyz="0 0 1"/>
    <limit lower="0.00" upper="6.28"/>
    <dynamics damping="0.05"/>
  </joint>
</robot>
